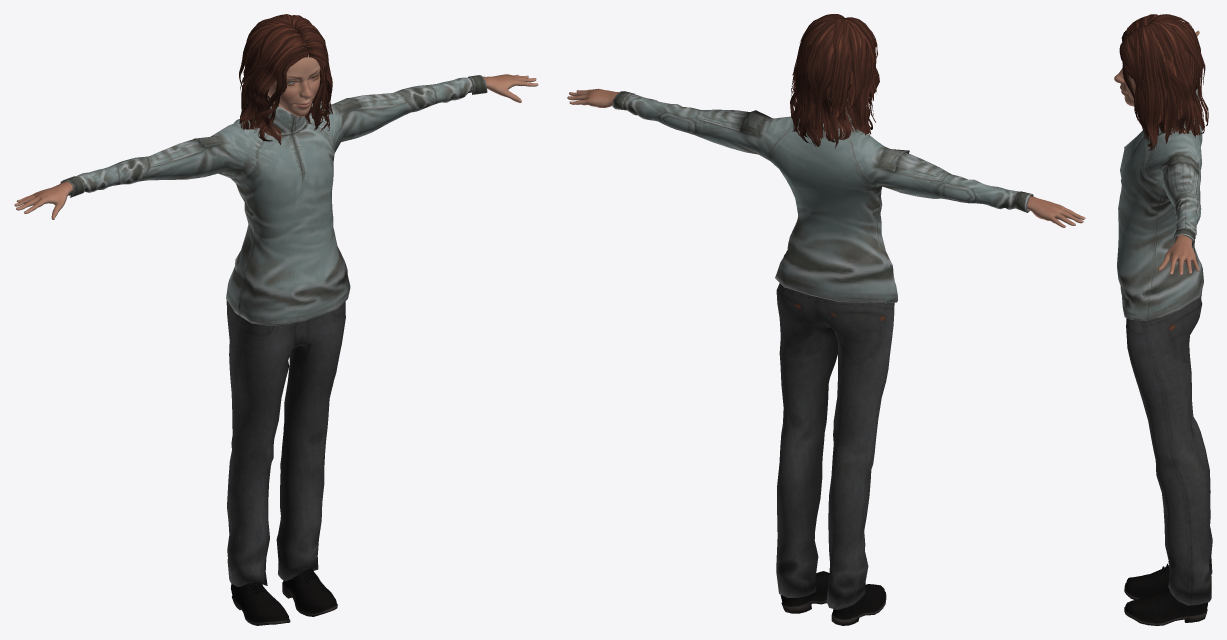
File: chica1fuse.obj
The picture shows the model from 3 angles, left to right: view 1: azimuth 30°, elevation 25°; view 2: azimuth 150°, elevation 25°; view 3: azimuth 270°, elevation 25°; orthographic projection.
Visible parts, largest first — view 1: Tops, Bottoms, Hair, Body, Shoes; view 2: Bottoms, Tops, Hair, Shoes, Body; view 3: Bottoms, Tops, Hair, Shoes, Body.
Part boxes in pixels (bbox=[...]): Tops: bbox=[60, 75, 487, 325]; Bottoms: bbox=[226, 300, 345, 586]; Hair: bbox=[239, 14, 333, 145]; Body: bbox=[14, 31, 538, 219]; Shoes: bbox=[231, 568, 337, 625]; Bottoms: bbox=[776, 283, 894, 609]; Tops: bbox=[612, 91, 1033, 303]; Hair: bbox=[790, 14, 879, 148]; Shoes: bbox=[780, 571, 886, 625]; Body: bbox=[567, 88, 1085, 227]; Bottoms: bbox=[1126, 290, 1212, 605]; Tops: bbox=[1117, 77, 1203, 320]; Hair: bbox=[1119, 14, 1208, 150]; Shoes: bbox=[1124, 563, 1207, 625]; Body: bbox=[1114, 30, 1199, 275].
Size of the model in its own units: 153 by 167 by 25.28.
1 material, 1 textured.
